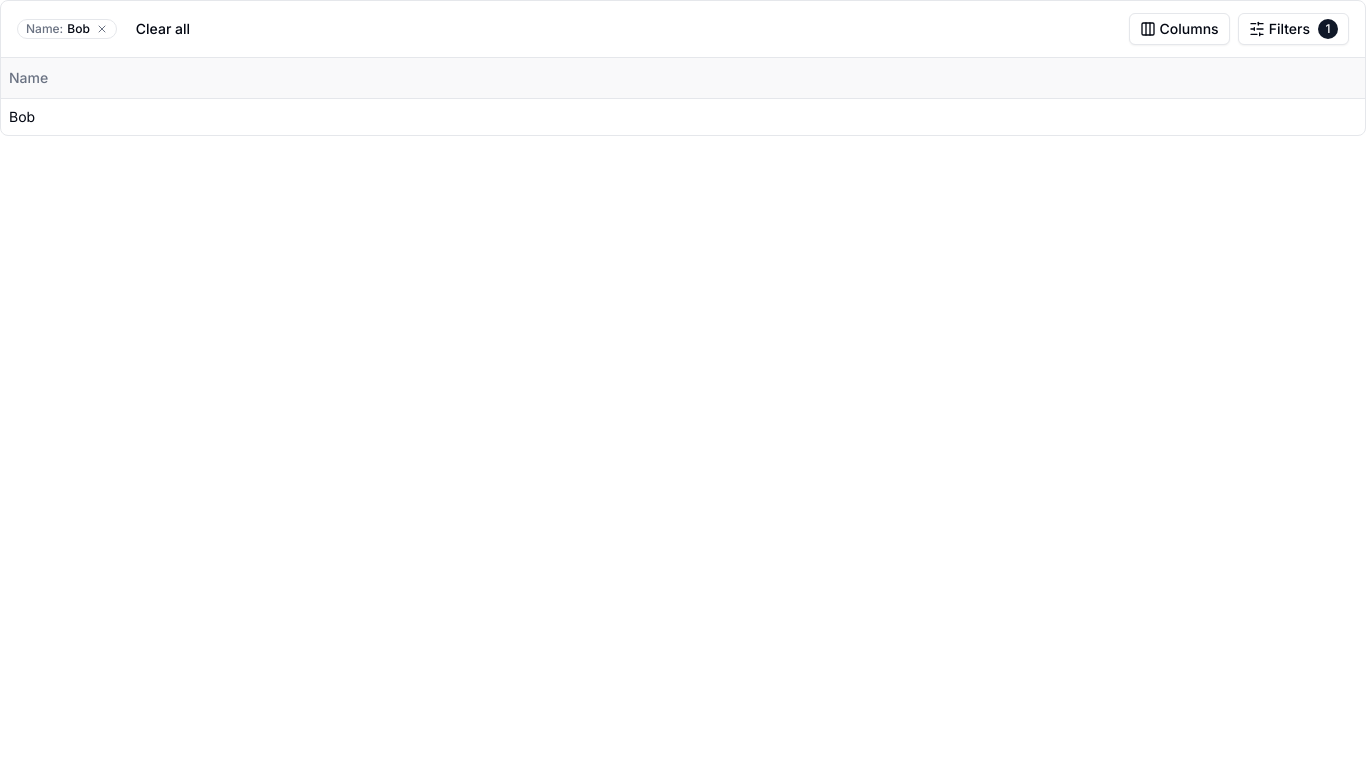
DataTableFilterDrawer › seeds the draft from committed filters when opened
This screenshot has width=1366, height=768.
Click the button with test id "datatable-filters-trigger".
click(1293, 29)  # box [1238,13,1349,45]
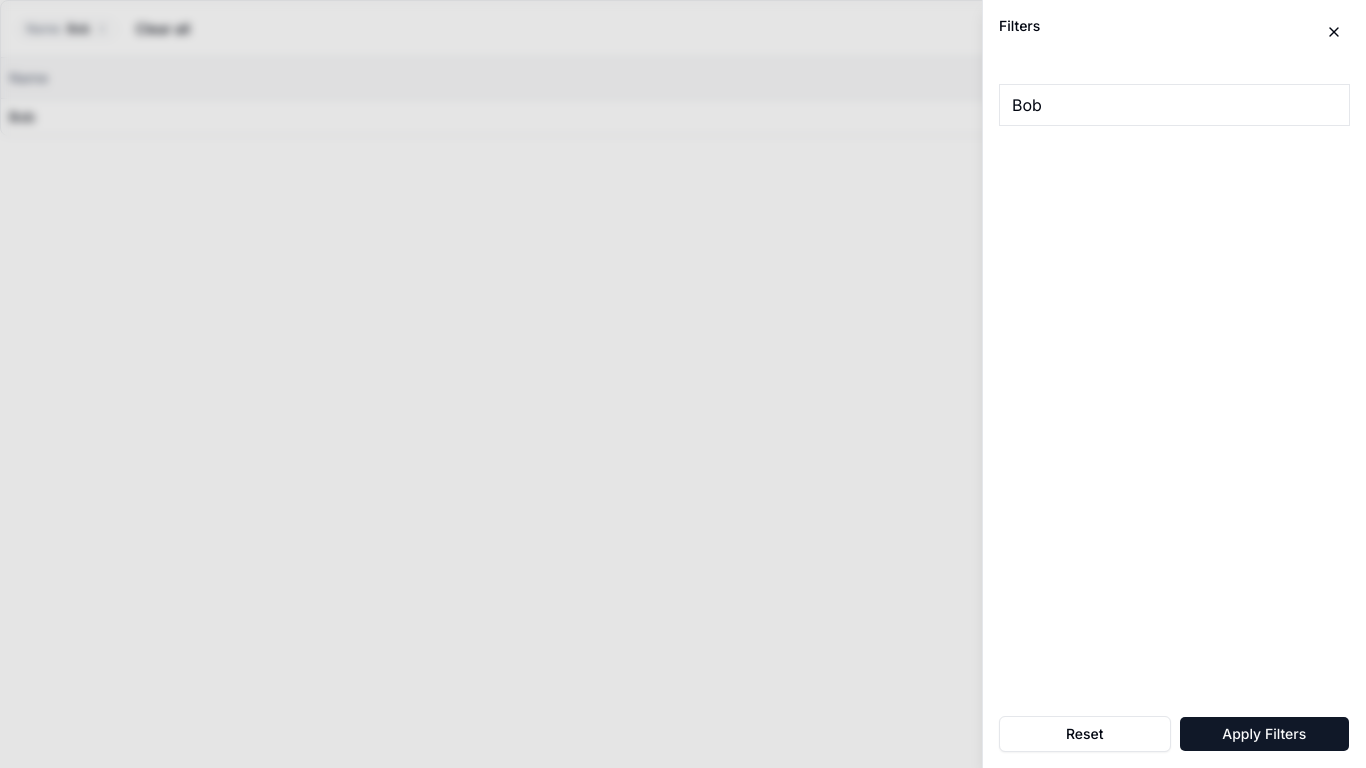
Check: the field with test id "draft-name" holds "Bob", box [999,84,1350,126]
